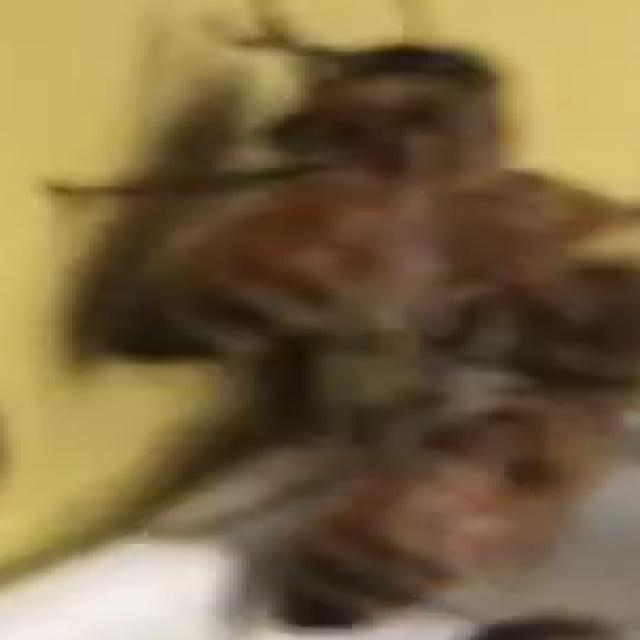honeybee: (78, 24, 528, 361), (255, 273, 640, 631)
